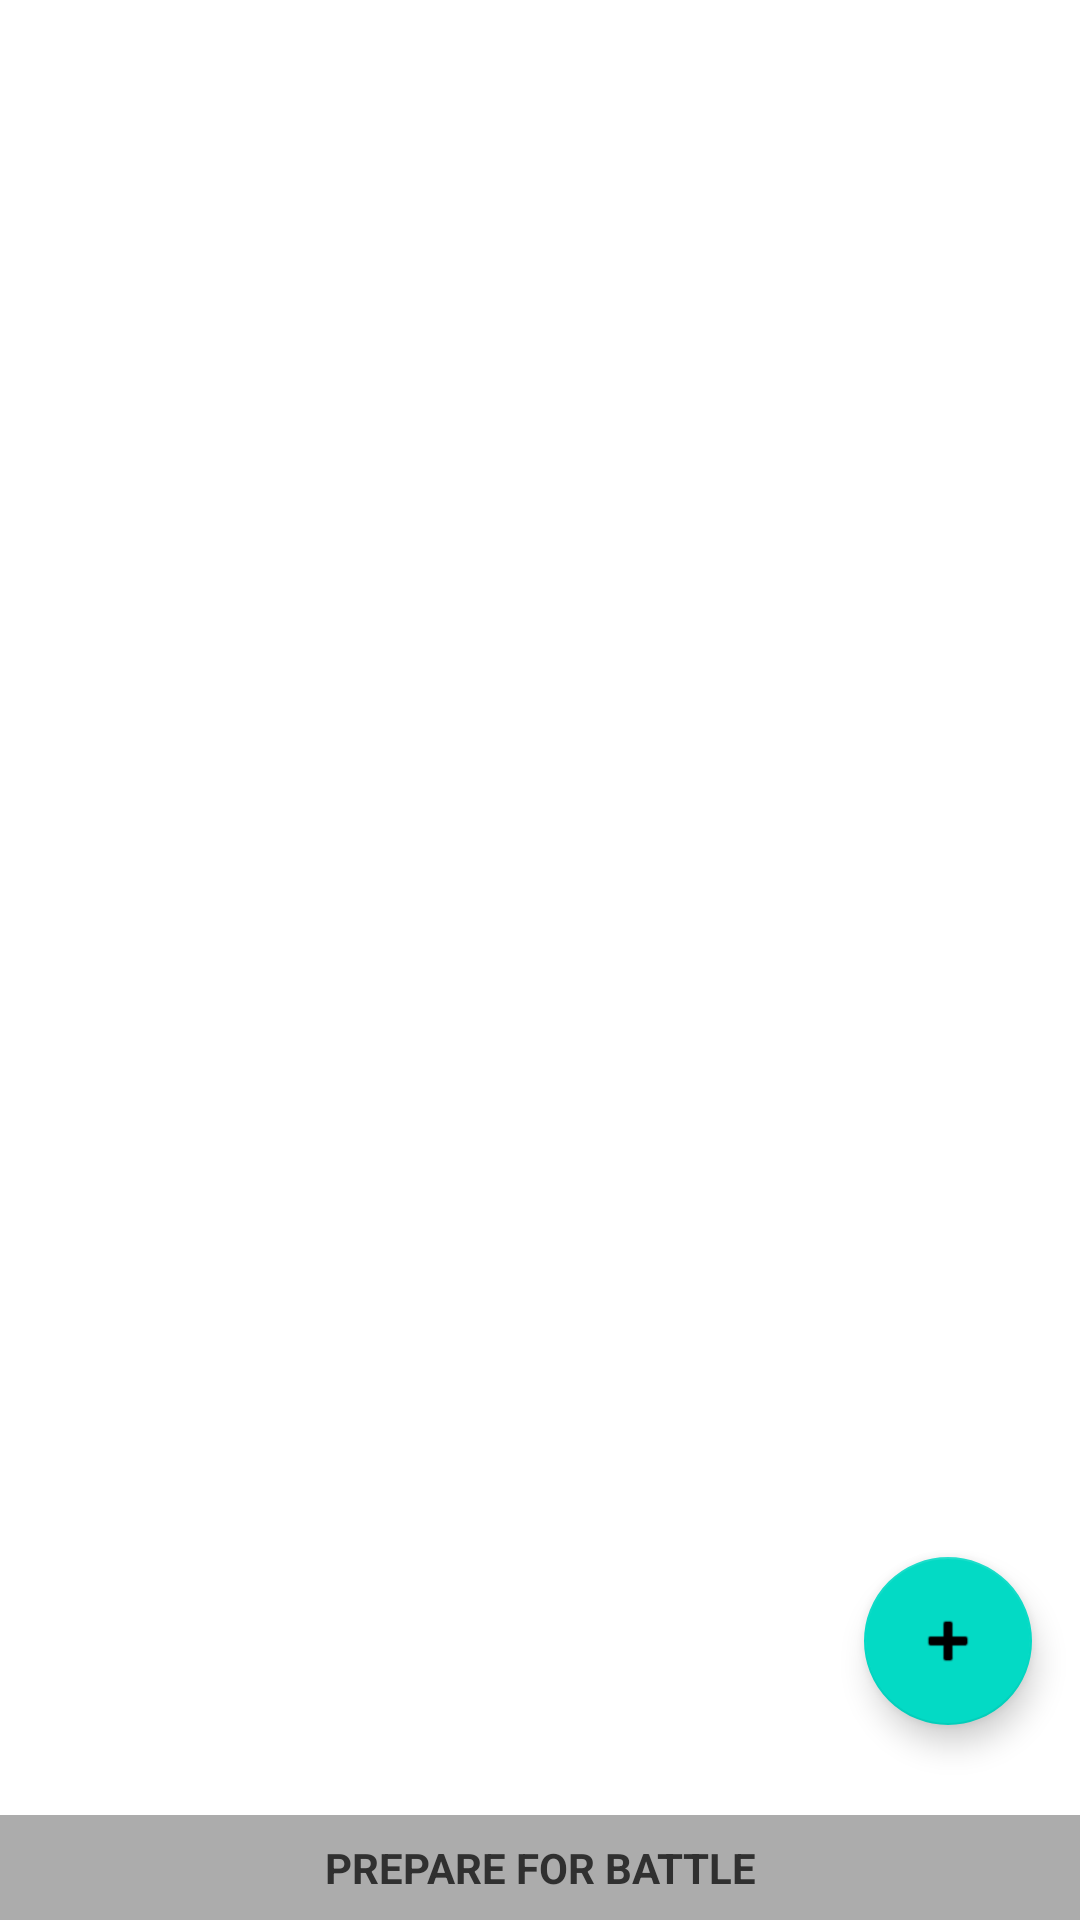

Locate icon controls on the screen. Image size 1080*1920, boxes as (x1, y1, x2, y2).
add: (864, 1557, 1032, 1725)
